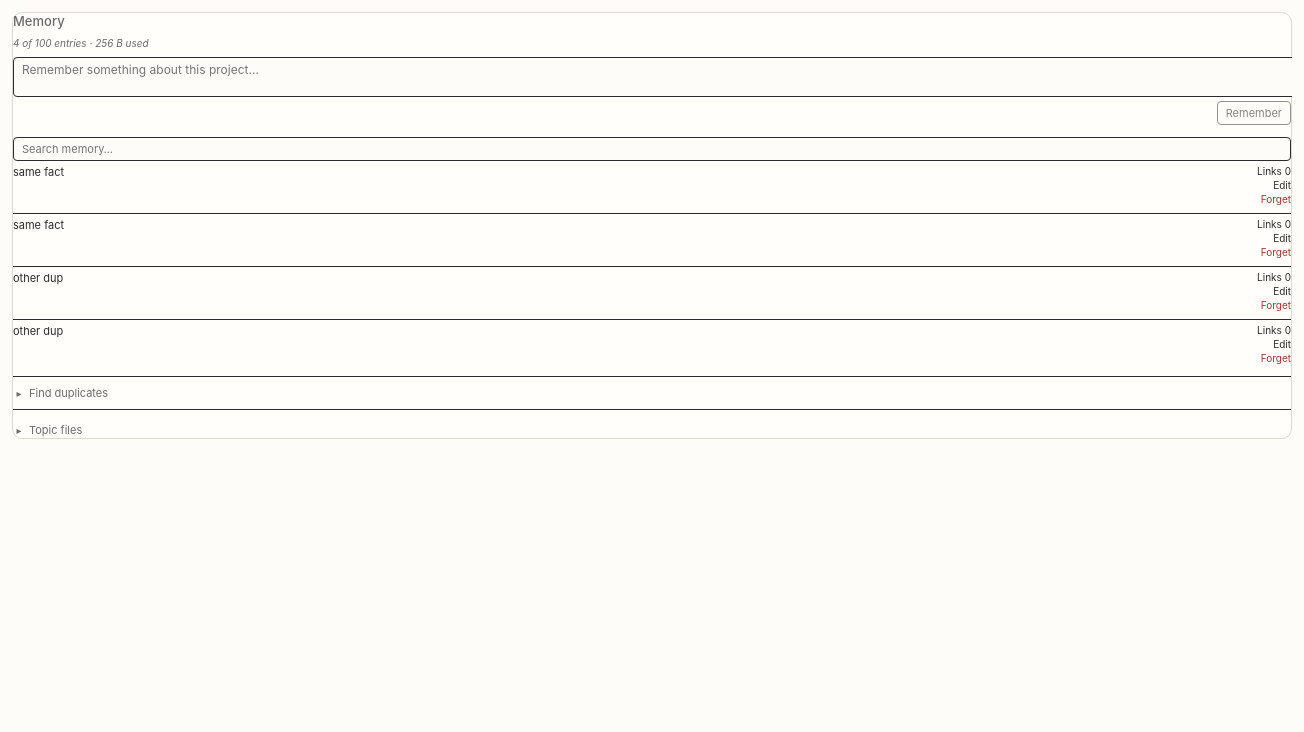
Test case: MemoryPanel — D66 selective compact › flags a compaction the audit log did not record
This screenshot has width=1304, height=732.
Expected: the text "4 of 100 entries · 256 B used" is shown, [13, 37, 149, 49]
Click the button "▸ Find duplicates" at x=61, y=393, box [13, 386, 108, 400]
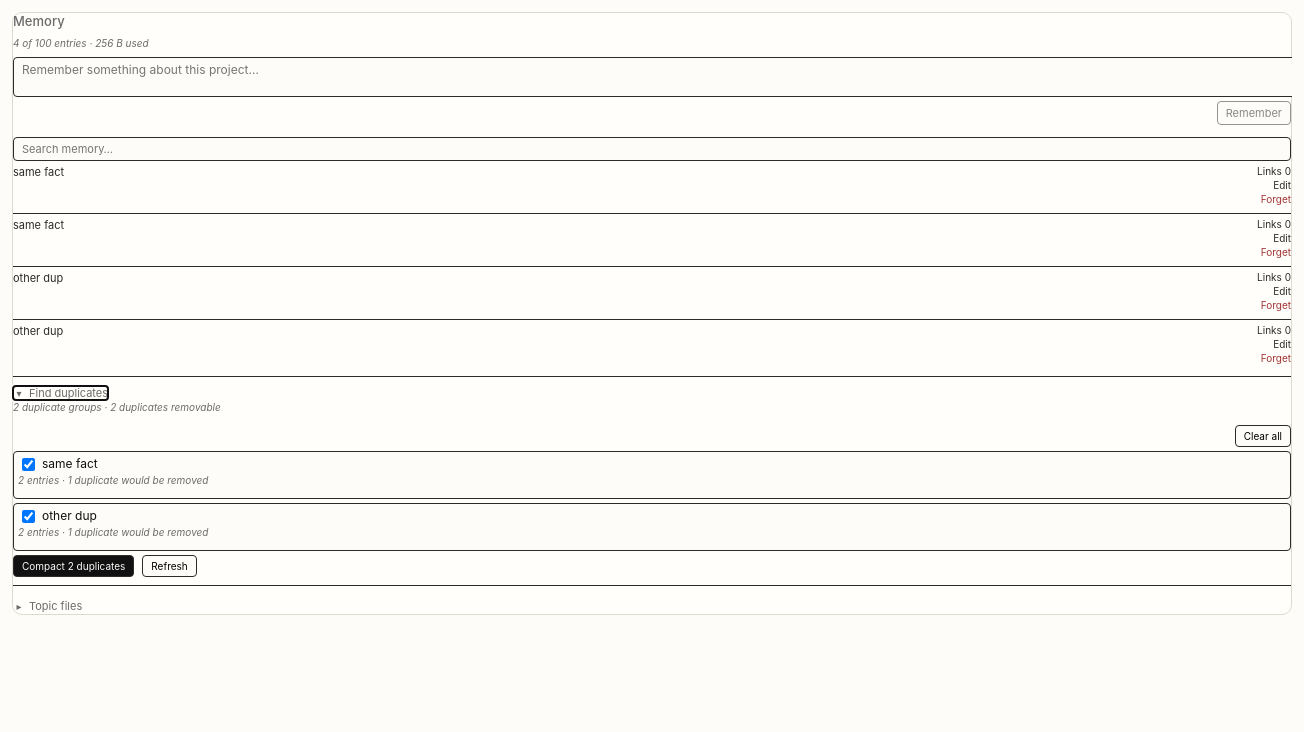
Expected: the text "2 duplicate groups · 2 duplicates removable" is shown, [13, 401, 221, 413]
Click the button "Compact 2 duplicates" at x=74, y=566, box [13, 555, 134, 577]
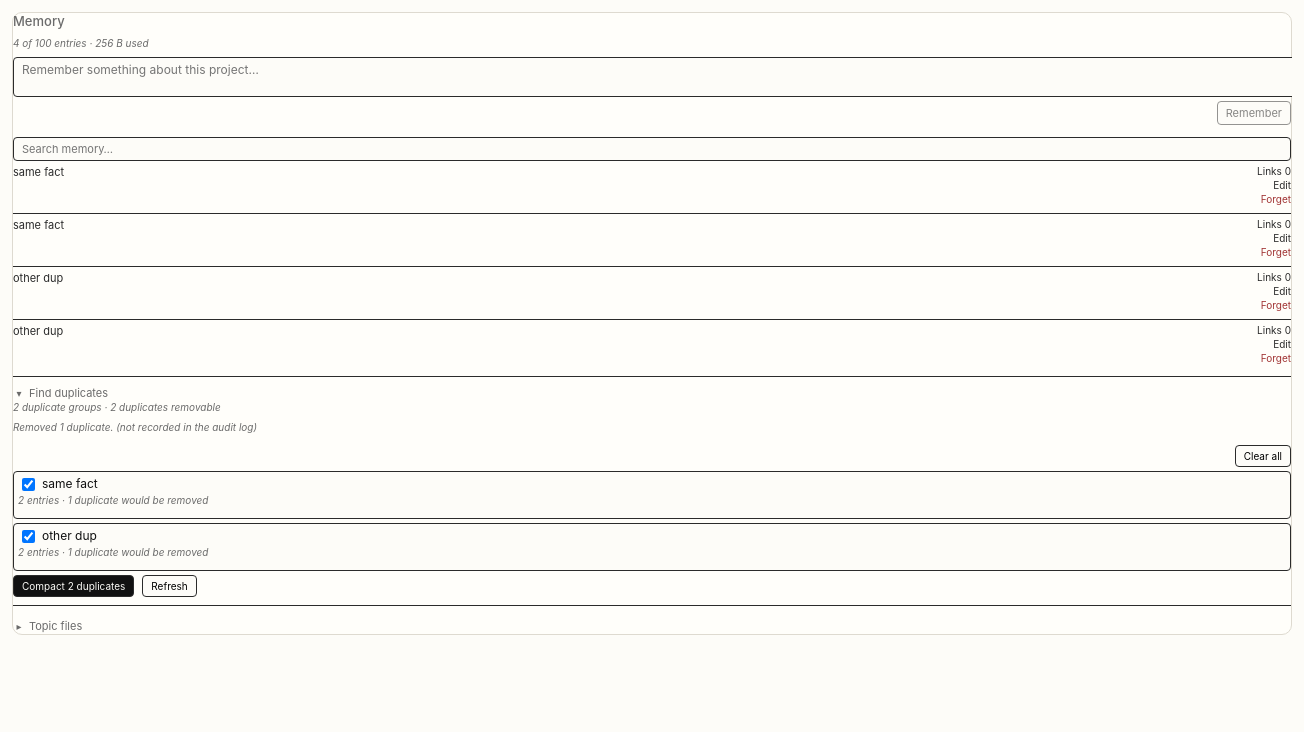
Expected: the text "Removed 1 duplicate. (not recorded in the audit log)" is shown, [13, 421, 257, 433]
